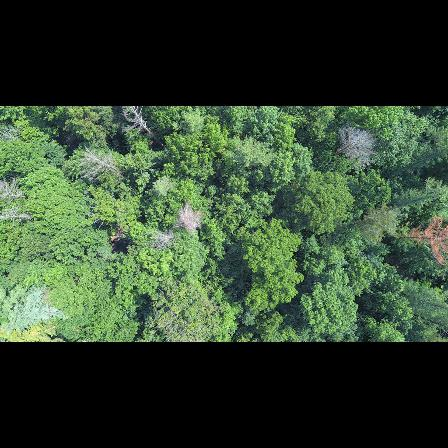Dead: (331, 126, 374, 167), (118, 106, 164, 144), (74, 149, 124, 176), (175, 200, 200, 234), (148, 225, 175, 251), (0, 207, 32, 226), (0, 180, 30, 200)
